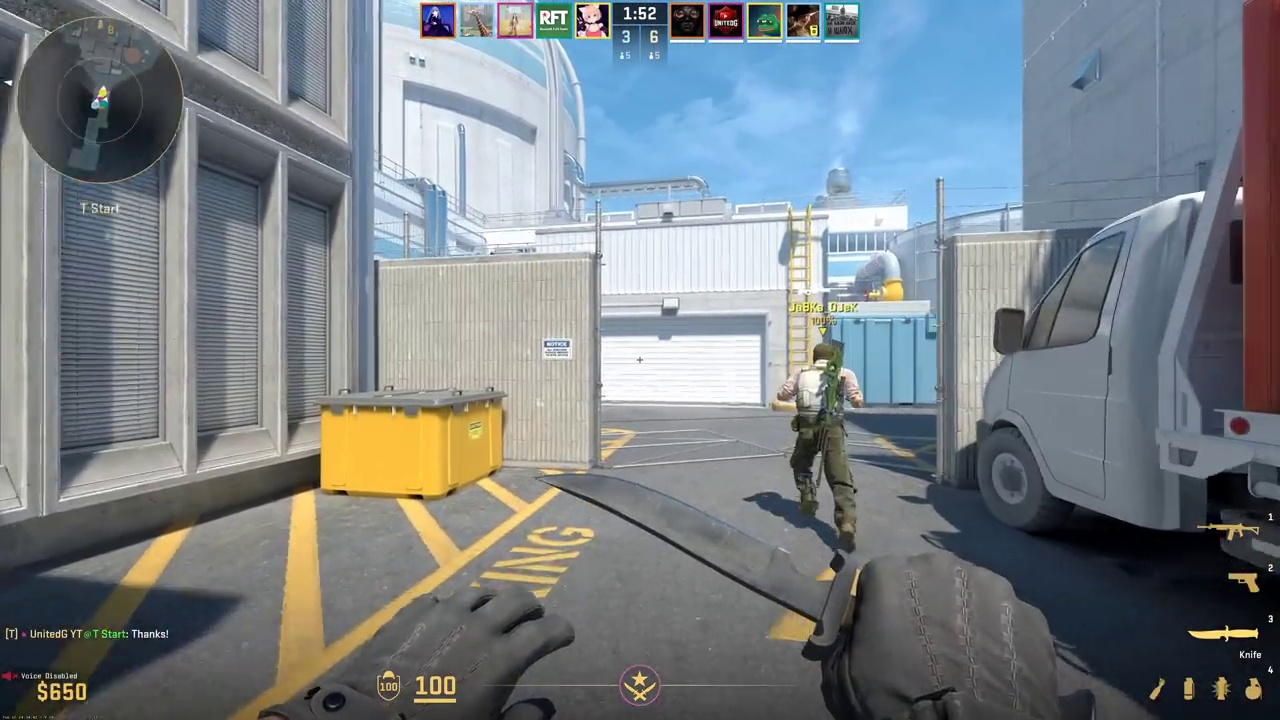Terrorist: (790, 342, 859, 550)
